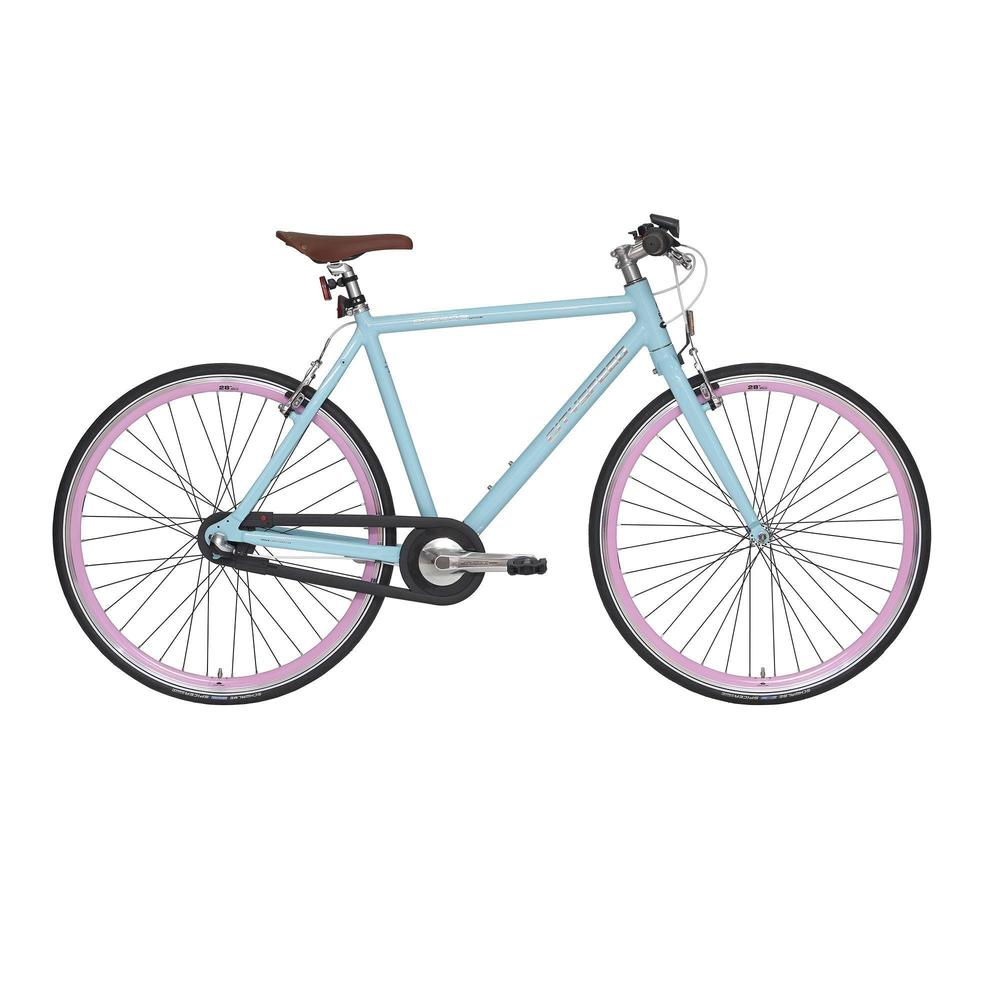UrbanBike: (44, 200, 923, 711)
